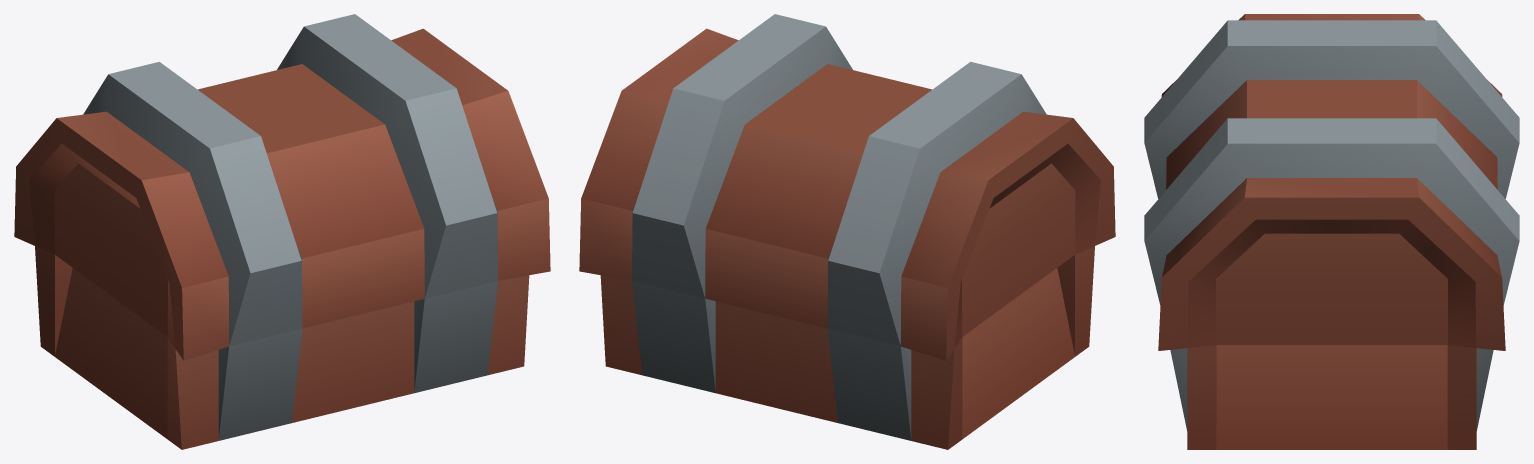
The model's file is kd_trunk_small_A.glb.
3 renders of one model, left to right at view 1: azimuth 30°, elevation 25°; view 2: azimuth 150°, elevation 25°; view 3: azimuth 270°, elevation 25°, orthographic. The views are drawn at different scales.
Parts seen in each view (by area): view 1: trunk_small_A; view 2: trunk_small_A; view 3: trunk_small_A.
Boxes of the visible parts, <box> form: trunk_small_A: <box>14,14,550,449</box>; trunk_small_A: <box>579,14,1115,449</box>; trunk_small_A: <box>1144,14,1519,449</box>.
Size of the model in its own units: 0.6754 by 0.4843 by 0.5834.
Materials: 1 (1 with a texture image).
